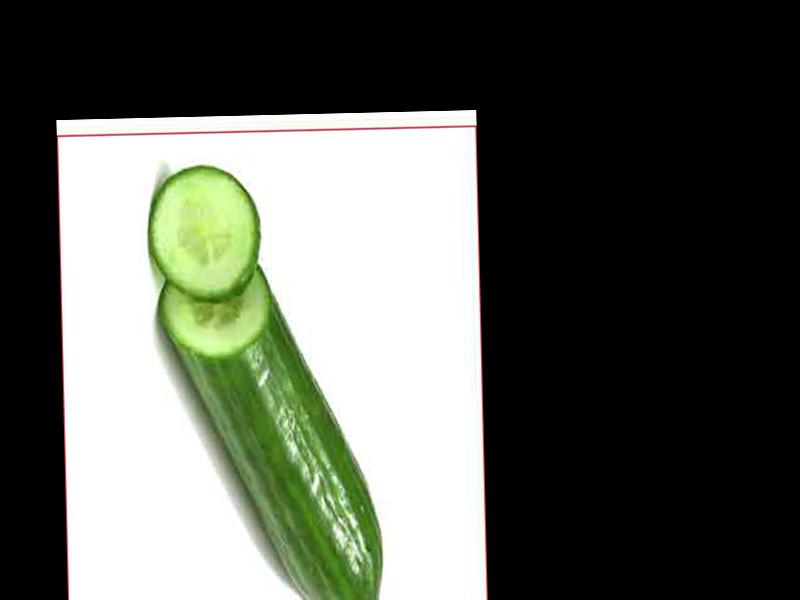Cucumber: (157, 255, 383, 600)
